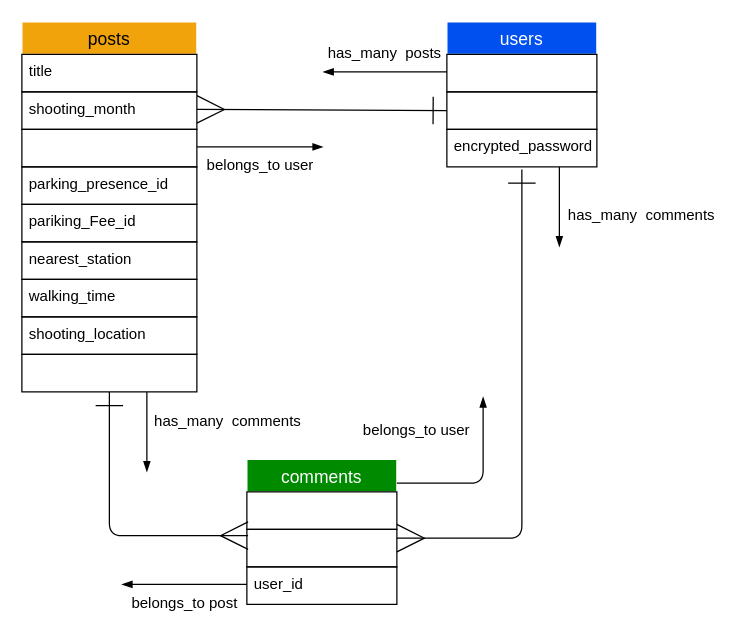
The diagram is 745 pixels wide and 644 high, and some of its shapes have lost their labels. The shapes that lost their labels are listed below. From the top down, each one's centre as x and y in pixels, then its label:
[521,72]: nickname
[521,110]: email
[109,147]: impression_point
[109,372]: other_information
[321,510]: text
[321,547]: post_id
